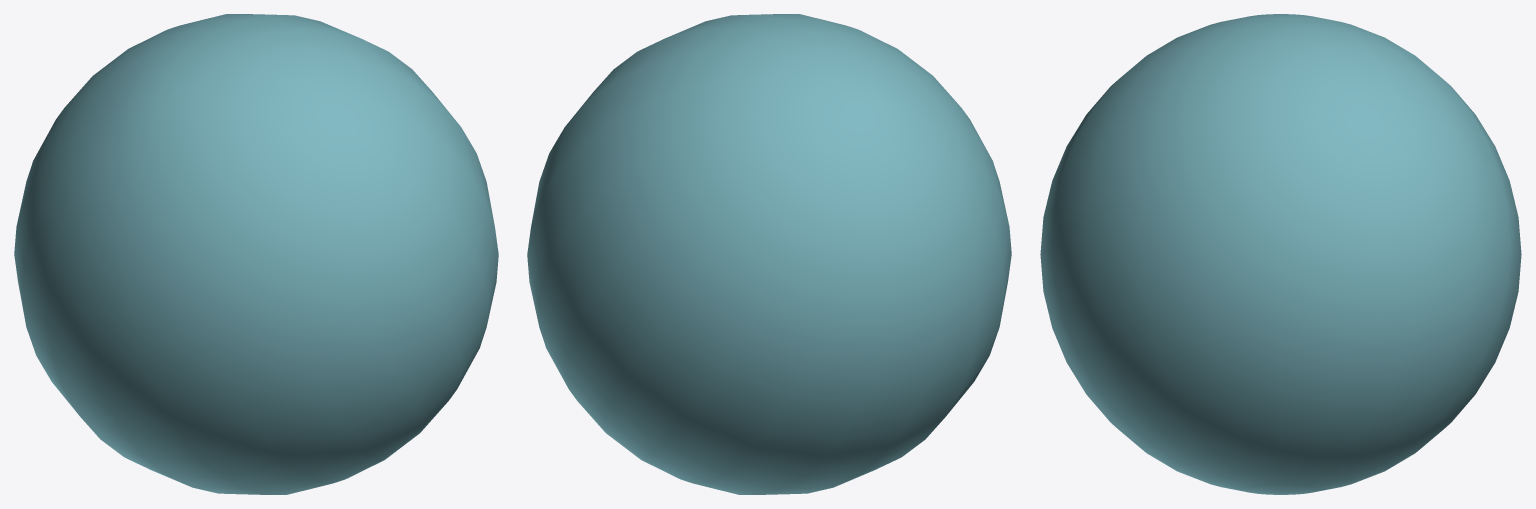
Rendered from Bubble_level1.fbx.
3 renders of one model, left to right at view 1: azimuth 30°, elevation 25°; view 2: azimuth 150°, elevation 25°; view 3: azimuth 270°, elevation 25°, orthographic.
Visible parts, largest first — view 1: bubble; view 2: bubble; view 3: bubble.
Boxes of the visible parts, box(x1,y1,x2,y2) form: bubble: box(14, 14, 498, 494); bubble: box(527, 14, 1011, 494); bubble: box(1040, 14, 1521, 494).
Bounding box in the file's own units: 99.86 × 99.86 × 100.
